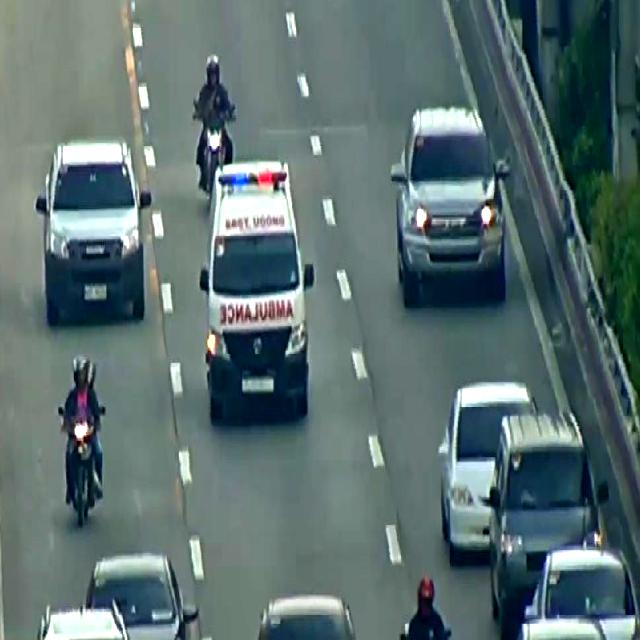emergency: (196, 154, 317, 437)
